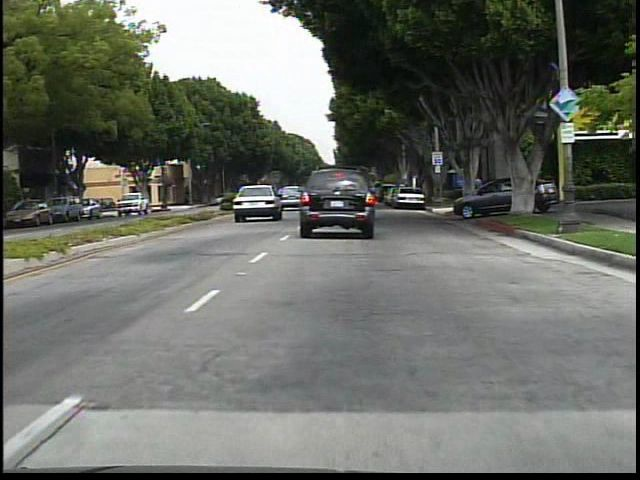person: (469, 170, 487, 209)
